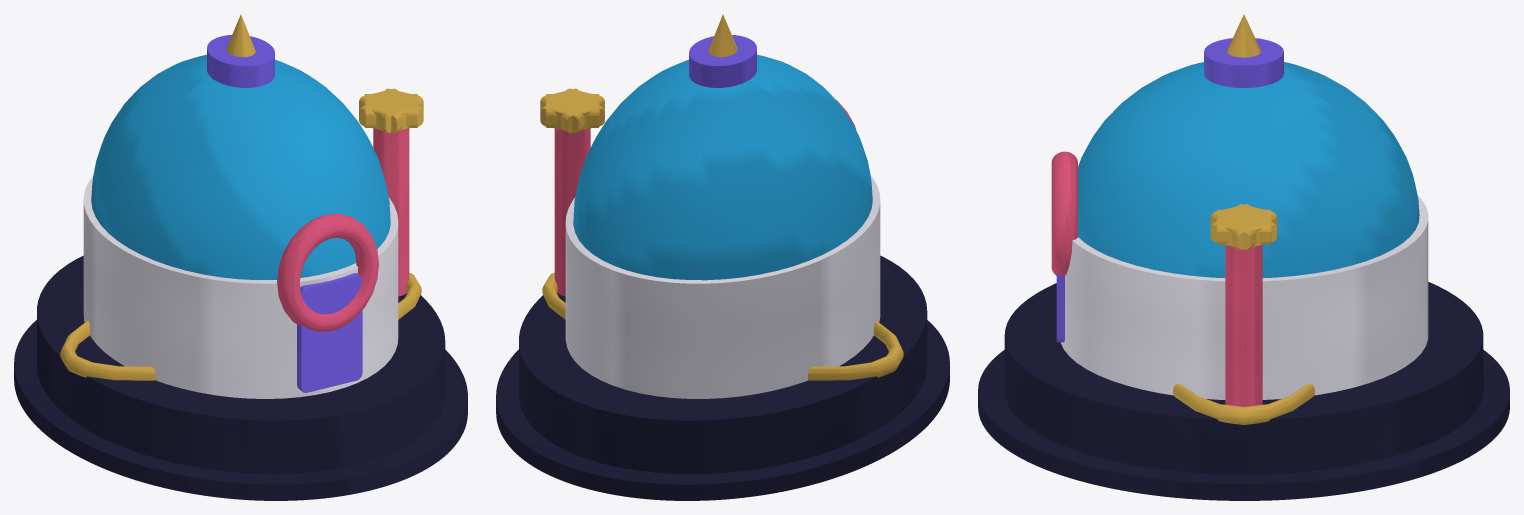
Rendered from 0818_中国建筑图鉴_苏州博物馆.glb.
3 views of the same model, side by side, from view 1: azimuth 30°, elevation 25°; view 2: azimuth 150°, elevation 25°; view 3: azimuth 270°, elevation 25° (orthographic). The views are drawn at different scales.
Parts seen in each view (by area): view 1: card_0818; view 2: card_0818; view 3: card_0818.
Boxes of the visible parts, left/top/right/bottom form: card_0818: left=14, top=14, right=467, bottom=500; card_0818: left=496, top=14, right=949, bottom=500; card_0818: left=978, top=14, right=1509, bottom=500.
Bounding box in the file's own units: 1.02 × 1 × 1.23.
